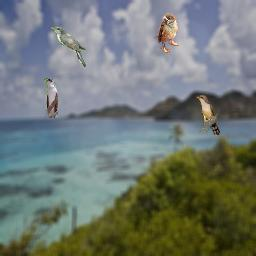Cuckoo: (51, 27, 86, 67), (196, 95, 220, 135), (44, 78, 58, 118)
Sparrow: (152, 13, 179, 53)
